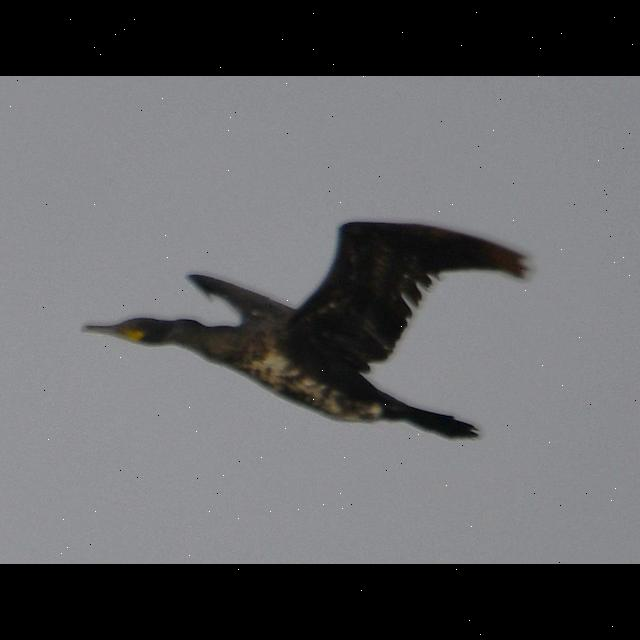cormorant: (81, 216, 538, 444)
